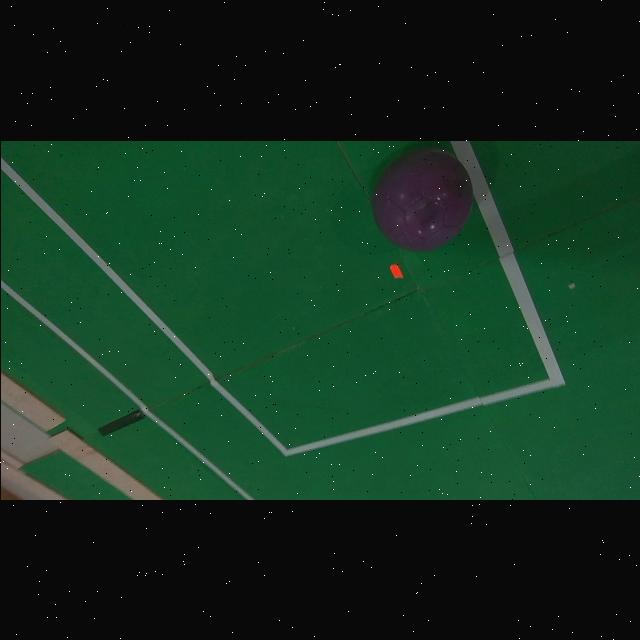P: (371, 148, 472, 251)
